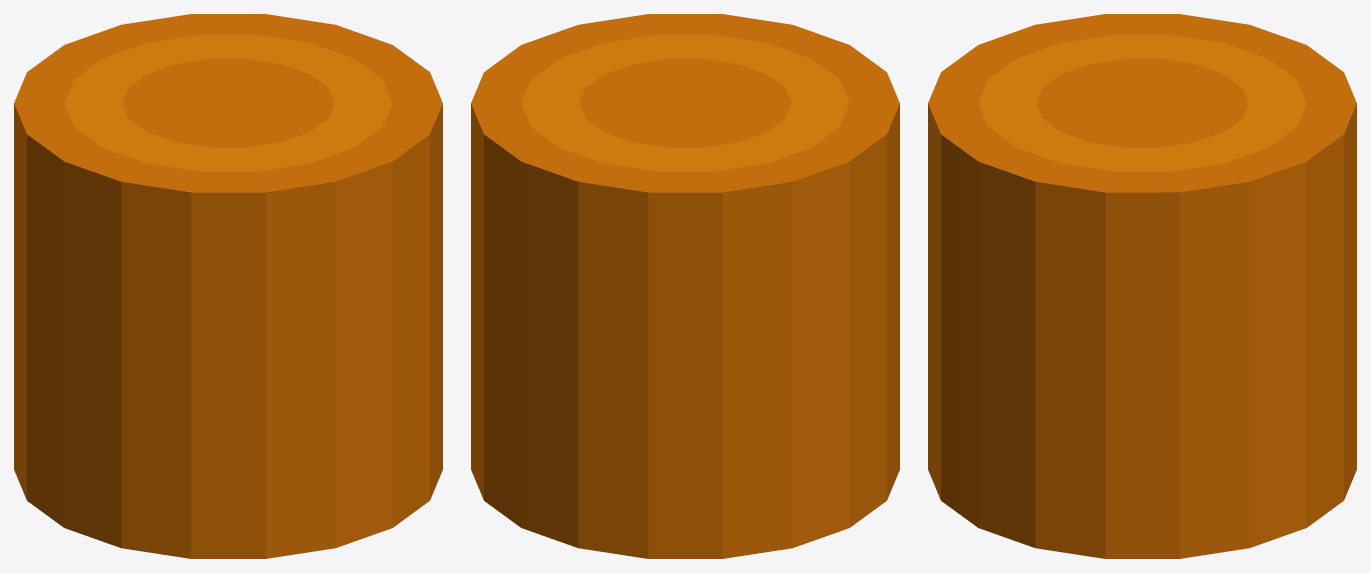
Rendered from Tree log_3.fbx.
3 views of the same model, side by side, from view 1: azimuth 30°, elevation 25°; view 2: azimuth 150°, elevation 25°; view 3: azimuth 270°, elevation 25° (orthographic).
Visible parts, largest first — view 1: Circle.145; view 2: Circle.145; view 3: Circle.145.
Part boxes in pixels (x1=…): Circle.145: x1=14, y1=14, x2=442, y2=558; Circle.145: x1=471, y1=14, x2=899, y2=558; Circle.145: x1=928, y1=14, x2=1356, y2=558.
Size of the model in its own units: 20.08 by 19.22 by 20.39.
